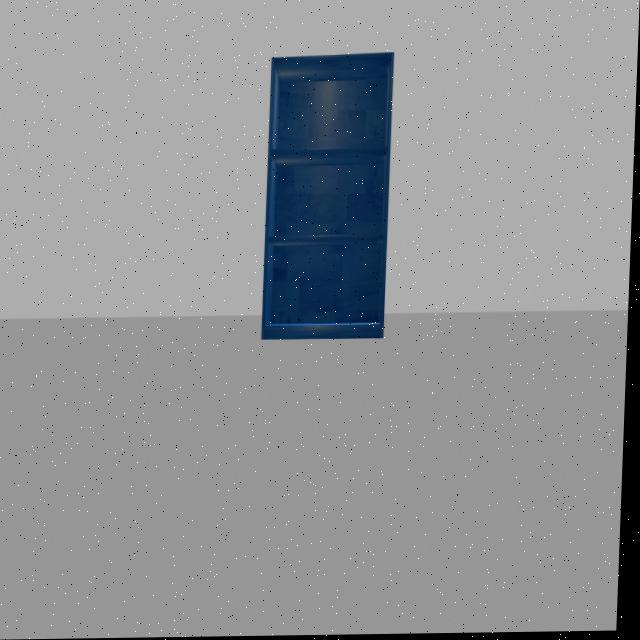shelf: (255, 31, 400, 362)
